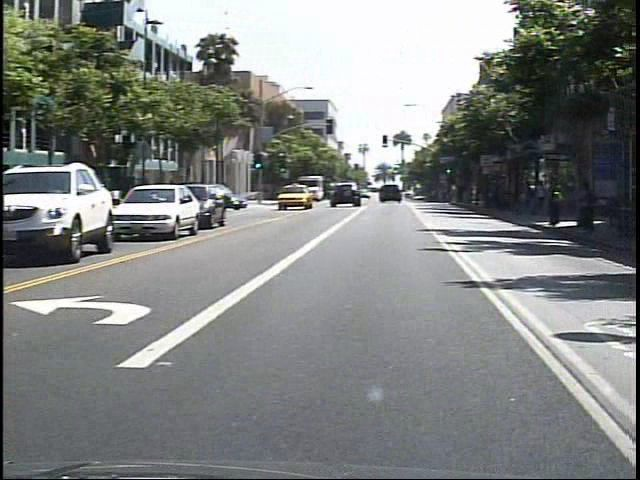person: (553, 166, 576, 232), (542, 179, 559, 218)
